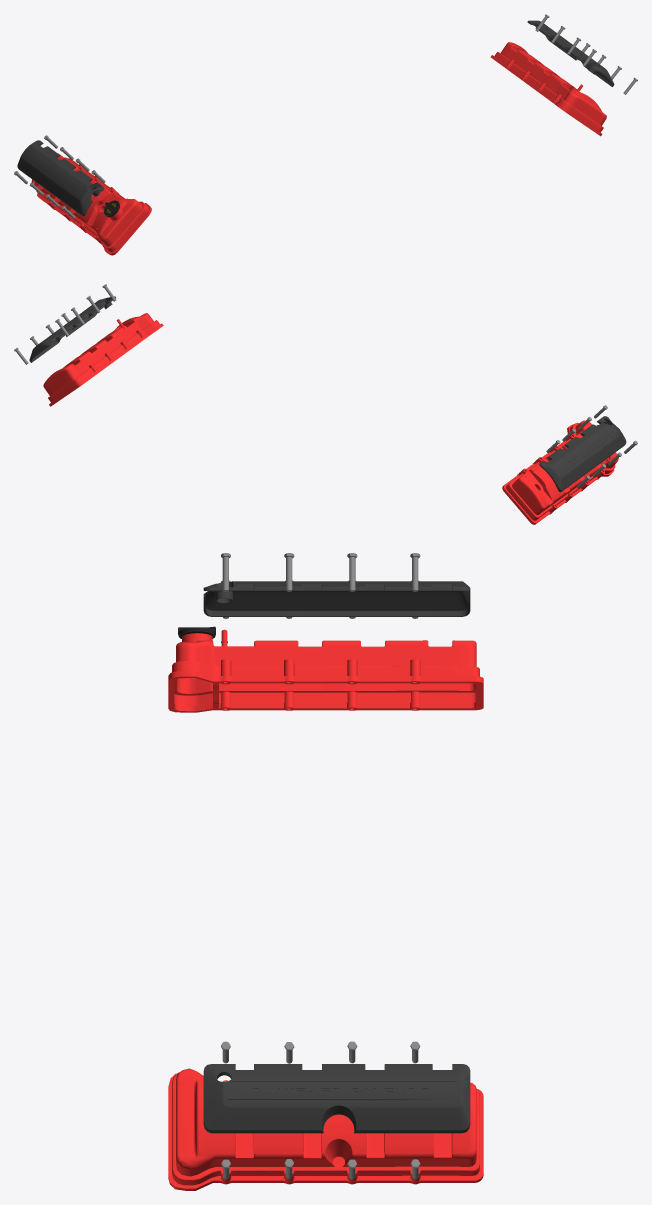
The model's file is cylHeadCover.glb.
3 views of the same model, one above another, from view 1: azimuth 30°, elevation 25°; view 2: azimuth 150°, elevation 25°; view 3: azimuth 270°, elevation 25° (orthographic). The views are drawn at different scales.
Visible parts, largest first — view 1: v8_coyote_pokrywa_glowicy_2(0), v8_coyote_pokrywa_glowicy_1(0), v8_coyote_pokrywa_swiec_2(0), v8_coyote_pokrywa_swiec_1(0); view 2: v8_coyote_pokrywa_glowicy_2(0), v8_coyote_pokrywa_glowicy_1(0), v8_coyote_pokrywa_swiec_2(0), v8_coyote_pokrywa_swiec_1(0); view 3: v8_coyote_pokrywa_glowicy_2(0), v8_coyote_pokrywa_glowicy_1(0), v8_coyote_pokrywa_swiec_1(0), v8_coyote_pokrywa_swiec_2(0).
Part boxes in pixels (left/top/right/bottom): v8_coyote_pokrywa_glowicy_2(0): left=31, top=153, right=151, bottom=255; v8_coyote_pokrywa_glowicy_1(0): left=490, top=42, right=606, bottom=136; v8_coyote_pokrywa_swiec_2(0): left=17, top=140, right=104, bottom=216; v8_coyote_pokrywa_swiec_1(0): left=527, top=20, right=614, bottom=86; v8_coyote_pokrywa_glowicy_2(0): left=502, top=420, right=618, bottom=524; v8_coyote_pokrywa_glowicy_1(0): left=43, top=313, right=163, bottom=406; v8_coyote_pokrywa_swiec_2(0): left=539, top=416, right=626, bottom=492; v8_coyote_pokrywa_swiec_1(0): left=29, top=296, right=115, bottom=362; v8_coyote_pokrywa_glowicy_2(0): left=168, top=629, right=483, bottom=712; v8_coyote_pokrywa_glowicy_1(0): left=168, top=1068, right=483, bottom=1190; v8_coyote_pokrywa_swiec_1(0): left=203, top=1064, right=470, bottom=1133; v8_coyote_pokrywa_swiec_2(0): left=203, top=581, right=470, bottom=616.
Bounding box in the file's own units: 0.0436 × 0.00562 × 0.0103.
Materials: 4 (2 with a texture image).
